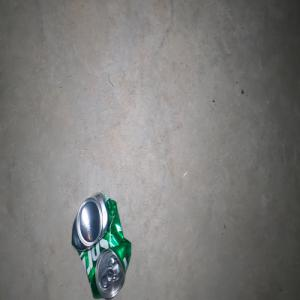SodaCan: (71, 191, 131, 300)
